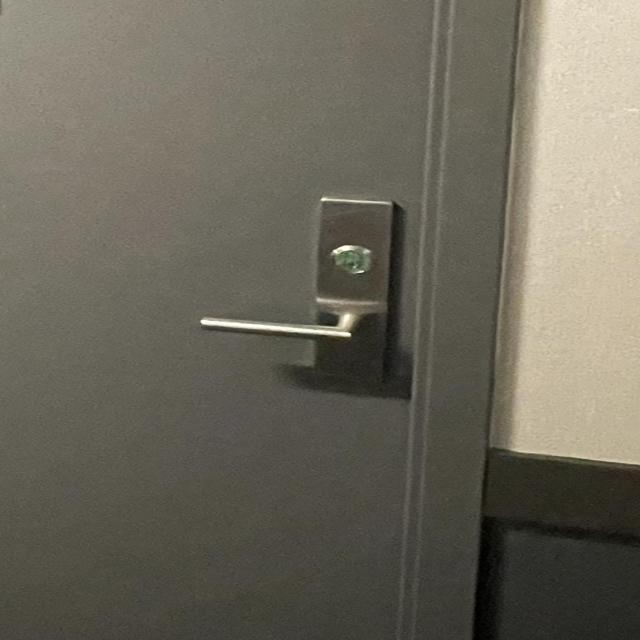door_handle: (187, 290, 391, 361)
